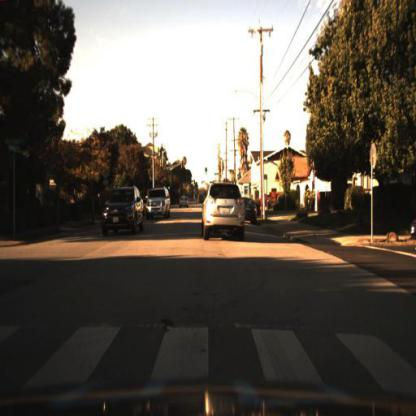car: (98, 181, 149, 242), (201, 179, 245, 241), (148, 183, 171, 225), (243, 187, 259, 229), (176, 193, 191, 211)
trafficLight-Green: (205, 164, 210, 177)
